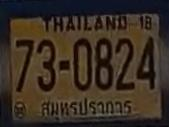0: (73, 37, 91, 90)
2: (115, 37, 134, 89)
3: (36, 38, 55, 90)
4: (136, 36, 154, 89)
7: (15, 39, 33, 91)
8: (94, 37, 112, 89)
SPK: (36, 98, 139, 117)
